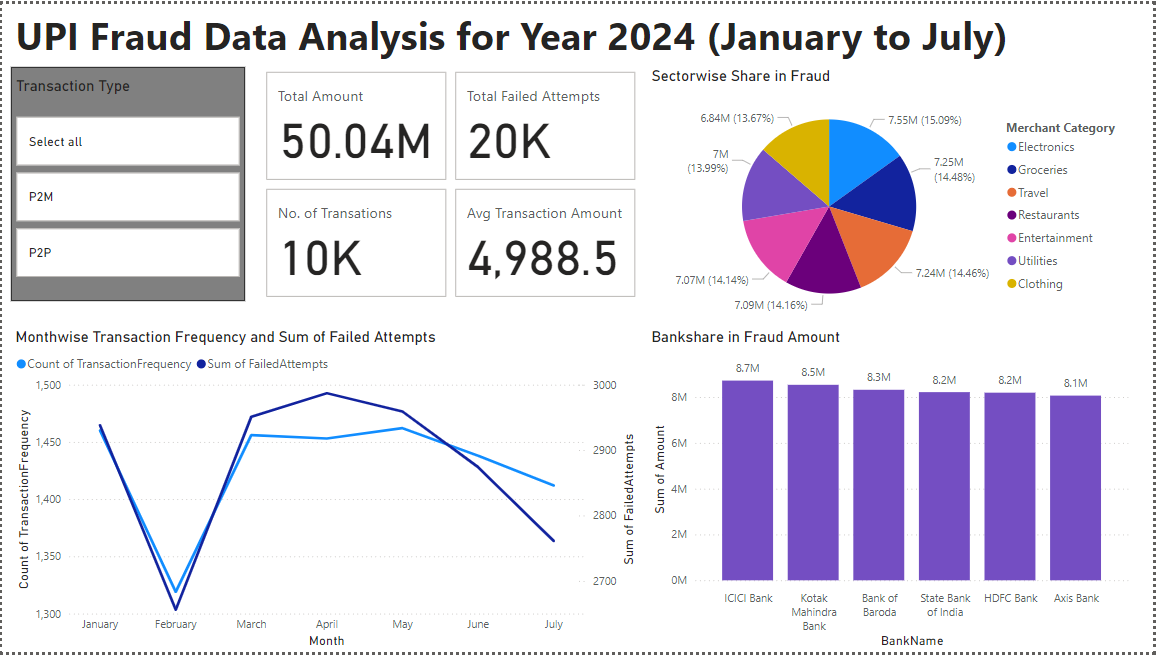

What the dashboard file says about the page in this screenshot:
{"tool":"powerbi","page":{"name":"Page 1","canvas":[1280,720],"ordinal":0},"visuals":[{"type":"cardVisual","fields":{"Data":["Sum(synthetic_indian_upi_fraud_data.Amount)"]},"box":[288.3,70,210,130],"z":0,"group":"g1"},{"type":"textbox","box":[10,0,1125,70],"z":0},{"type":"cardVisual","fields":{"Data":["Sum(synthetic_indian_upi_fraud_data.FailedAttempts)"]},"box":[498.3,70,210,130],"z":1000,"group":"g1"},{"type":"pieChart","title":"Sectorwise Share in Fraud","fields":{"Category":["synthetic_indian_upi_fraud_data.MerchantCategory"],"Y":["Sum(synthetic_indian_upi_fraud_data.Amount)"]},"box":[716.7,70,540,290],"z":1000},{"type":"cardVisual","fields":{"Data":["Fraud Data.No. of Transations"]},"box":[288.3,200,210,130],"z":2000,"group":"g1"},{"type":"columnChart","title":"Bankshare in Fraud Amount","fields":{"Y":["Sum(synthetic_indian_upi_fraud_data.Amount)"],"Category":["synthetic_indian_upi_fraud_data.BankName"]},"box":[716.7,360,540,360],"z":2000},{"type":"cardVisual","fields":{"Data":["Fraud Data.Average Transaction Amount"]},"box":[498.3,200,210,130],"z":3000,"group":"g1"},{"type":"lineChart","title":"Monthwise Transaction Frequency and Sum of Failed Attempts","fields":{"Category":["Fraud Data.Date.Variation.Date Hierarchy.Month"],"Y":["CountNonNull(Fraud Data.TransactionFrequency)"],"Y2":["Sum(Fraud Data.FailedAttempts)"]},"box":[10,360,698.3,360],"z":3000},{"type":"advancedSlicerVisual","fields":{"Values":["Fraud Data.TransactionType"]},"box":[10,70,260,260],"z":4000},{"type":"group","id":"g1","title":"Group 1","box":[288.3,70,420,260],"z":5000}]}

Visuals, with their boxes in screenshot pixels (x1, y1, x2, y2), scaled from the page's 1280x720 canvas onto the 1156x655 screenshot:
cardVisual - Sum(synthetic_indian_upi_fraud_data.Amount): Rect(260, 64, 450, 182)
textbox: Rect(9, 0, 1025, 64)
cardVisual - Sum(synthetic_indian_upi_fraud_data.FailedAttempts): Rect(450, 64, 640, 182)
"Sectorwise Share in Fraud" pieChart: Rect(647, 64, 1135, 328)
cardVisual - Fraud Data.No. of Transations: Rect(260, 182, 450, 300)
"Bankshare in Fraud Amount" columnChart: Rect(647, 328, 1135, 654)
cardVisual - Fraud Data.Average Transaction Amount: Rect(450, 182, 640, 300)
"Monthwise Transaction Frequency and Sum of Failed Attempts" lineChart: Rect(9, 328, 640, 654)
advancedSlicerVisual - Fraud Data.TransactionType: Rect(9, 64, 244, 300)
"Group 1" group: Rect(260, 64, 640, 300)
